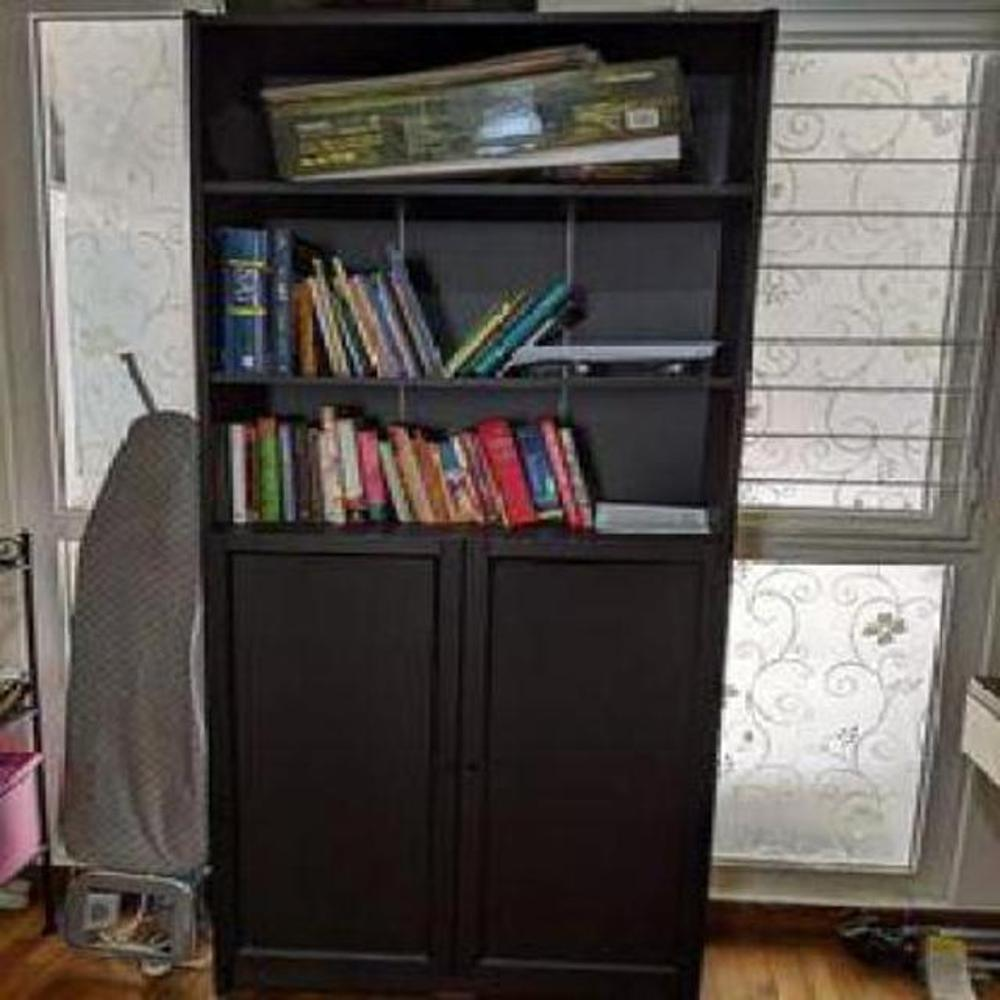lamp: (175, 3, 784, 997)
